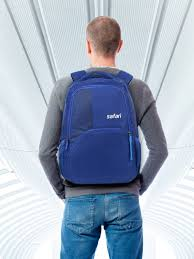backpack: (55, 67, 142, 186)
